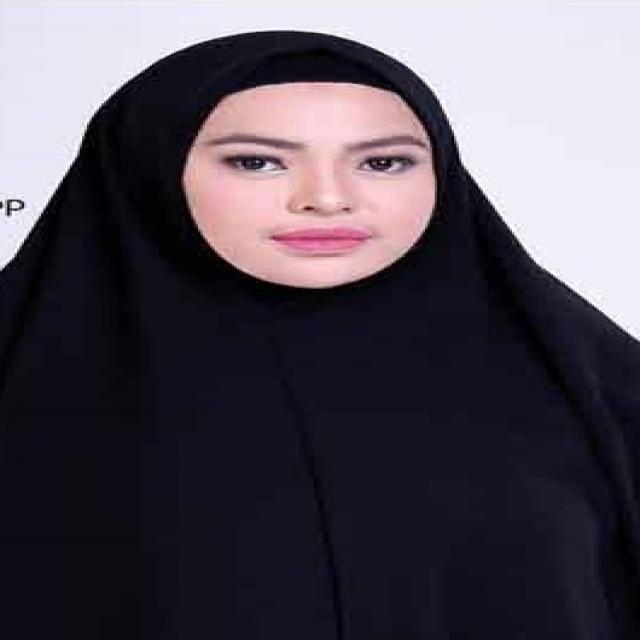head: (125, 26, 451, 294)
